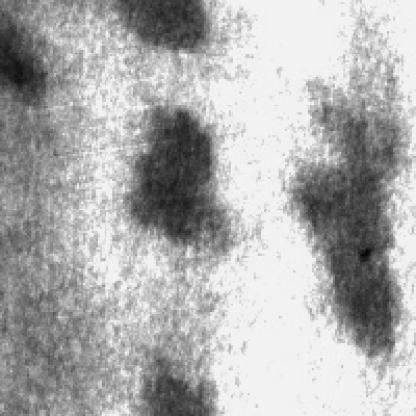patches: (294, 104, 402, 352), (121, 100, 218, 244), (135, 360, 221, 414), (106, 0, 206, 44), (0, 14, 48, 96)
